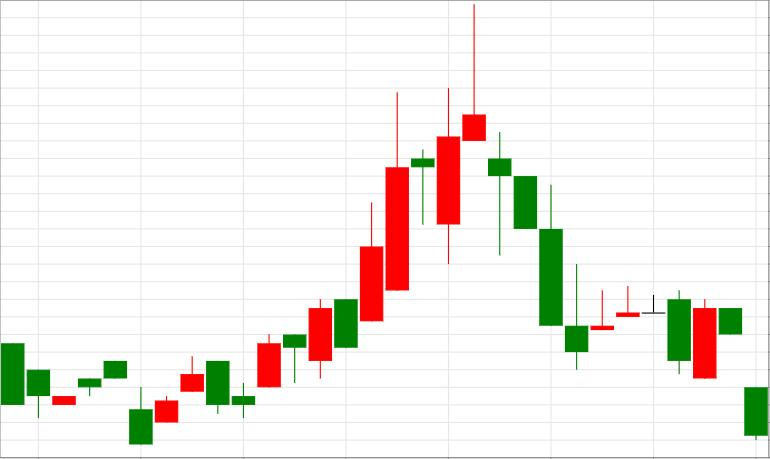shooting_star_fall: (360, 4, 486, 323)
